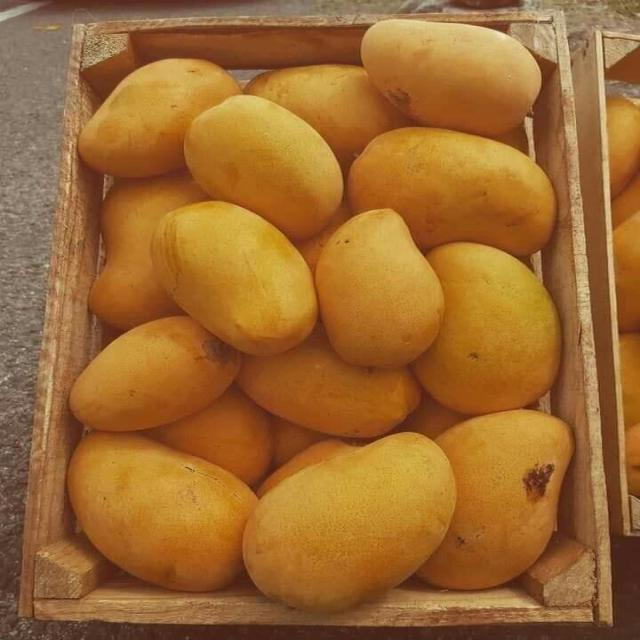mango: (243, 433, 455, 612), (68, 433, 256, 591), (418, 410, 573, 589), (348, 127, 555, 255), (414, 243, 561, 414), (152, 202, 317, 354), (184, 96, 343, 240), (361, 19, 541, 135), (238, 325, 420, 437), (316, 210, 444, 367), (70, 317, 240, 431), (79, 59, 240, 177), (89, 172, 207, 330), (245, 65, 411, 173), (145, 387, 271, 485), (256, 439, 358, 497), (296, 202, 351, 274), (607, 97, 639, 198), (613, 213, 639, 331), (400, 396, 469, 439), (272, 416, 327, 468), (620, 332, 640, 428), (611, 175, 639, 228), (490, 123, 528, 154), (625, 424, 639, 496)
